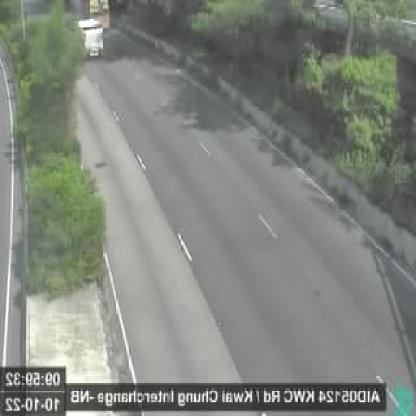Truck: (78, 18, 104, 62)
